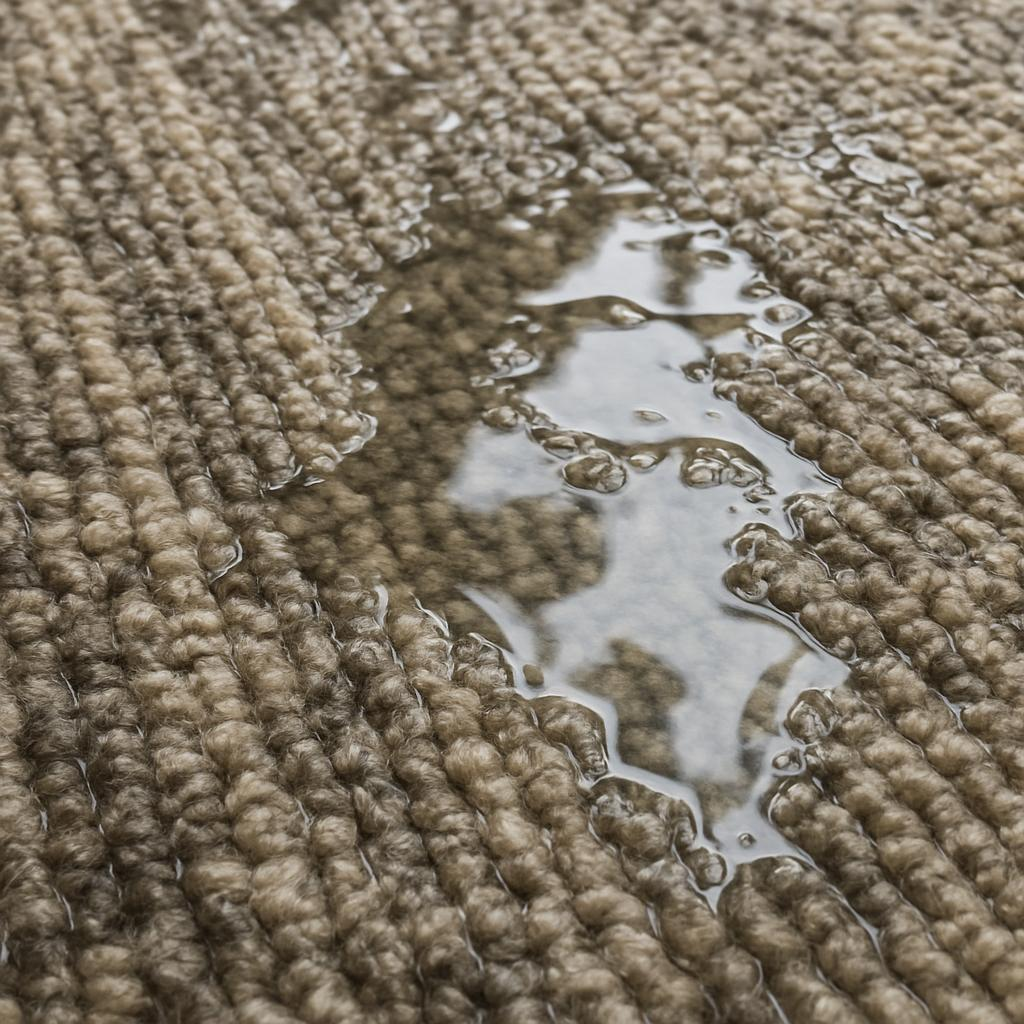water accumulation: (245, 173, 865, 910)
